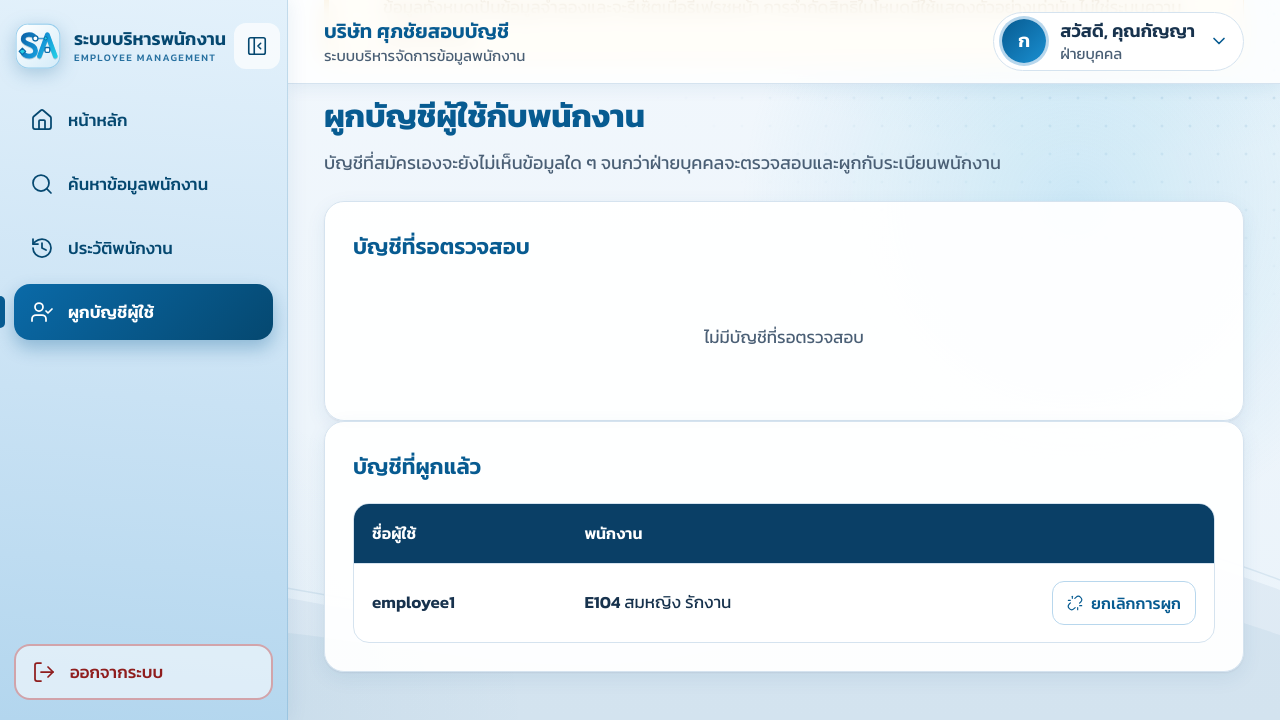
Test: unlinking an account (HR) › shows the server error inside the dialog and keeps it open when unlinking fails
(page scrolled)
Check: the element named "บัญชีที่ผูกกับพนักงานแล้ว" is shown, box top-left (353, 503), bottom-right (1215, 643)
What coordinates should you click on to do the following:
click the button with aria-label "ยกเลิกการผูกบัญชี employee1"
I would click on:
 (1124, 603)
Its box is top-left (1052, 581), bottom-right (1196, 625).
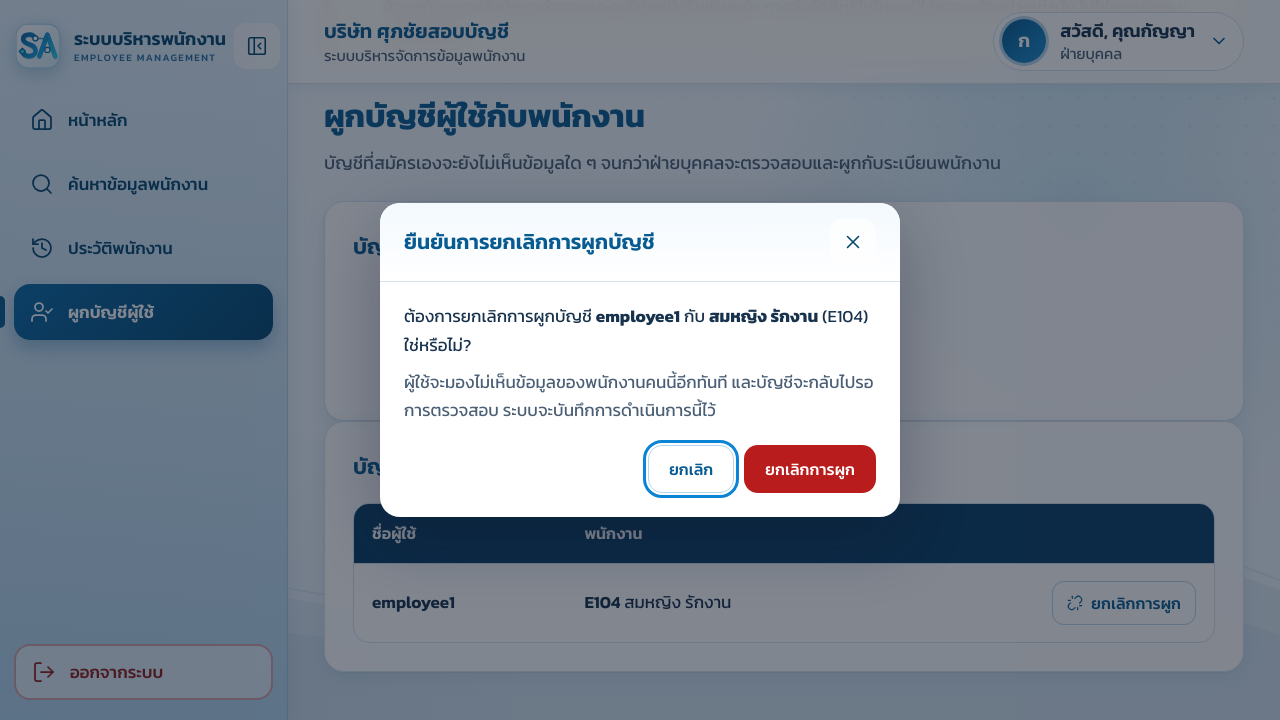
What coordinates should you click on to do the following:
click the button "ยกเลิกการผูก"
I would click on:
 (810, 469)
Its box is top-left (744, 445), bottom-right (876, 493).
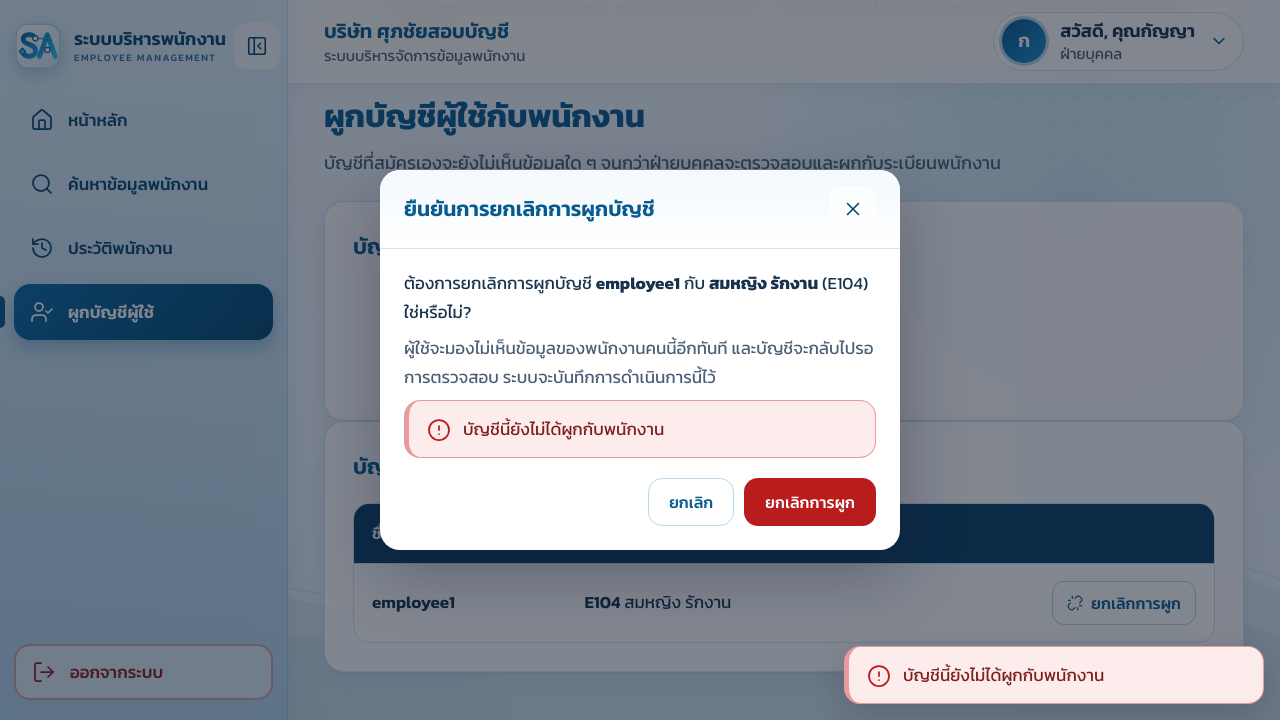
Check: the dialog is shown, box top-left (380, 170), bottom-right (900, 550)
Check: the button "ยกเลิกการผูก" is enabled, box top-left (744, 478), bottom-right (876, 526)
Check: the message "บัญชีนี้ยังไม่ได้ผูกกับพนักงาน" below "ต้องการยกเลิกการผูกบัญชี" is shown, box top-left (463, 416), bottom-right (664, 442)
